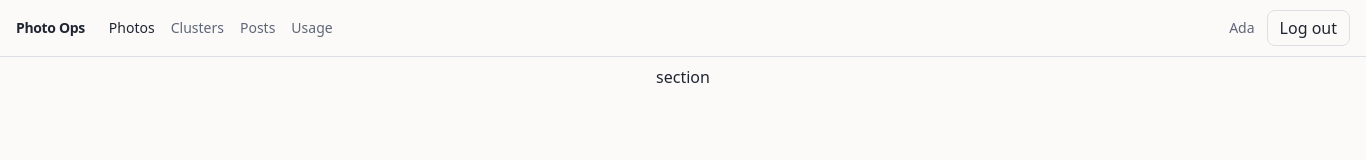
Test case: AppShell › surfaces feedback when logout fails
This screenshot has width=1366, height=160.
Click the button "Log out".
click(1308, 28)  # box left=1267, top=10, right=1350, bottom=46
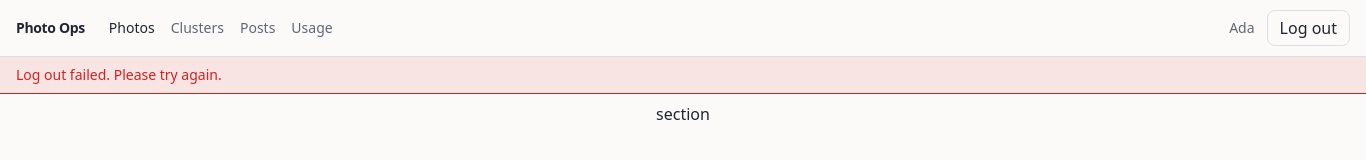
Expected: the message reads "Log out failed. Please try again.", left=16, top=65, right=222, bottom=84
